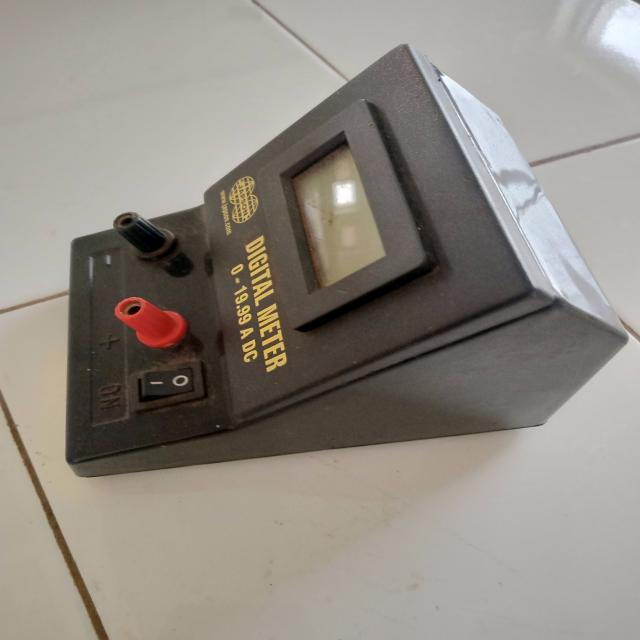Digital Ammeter: (44, 36, 640, 476)
